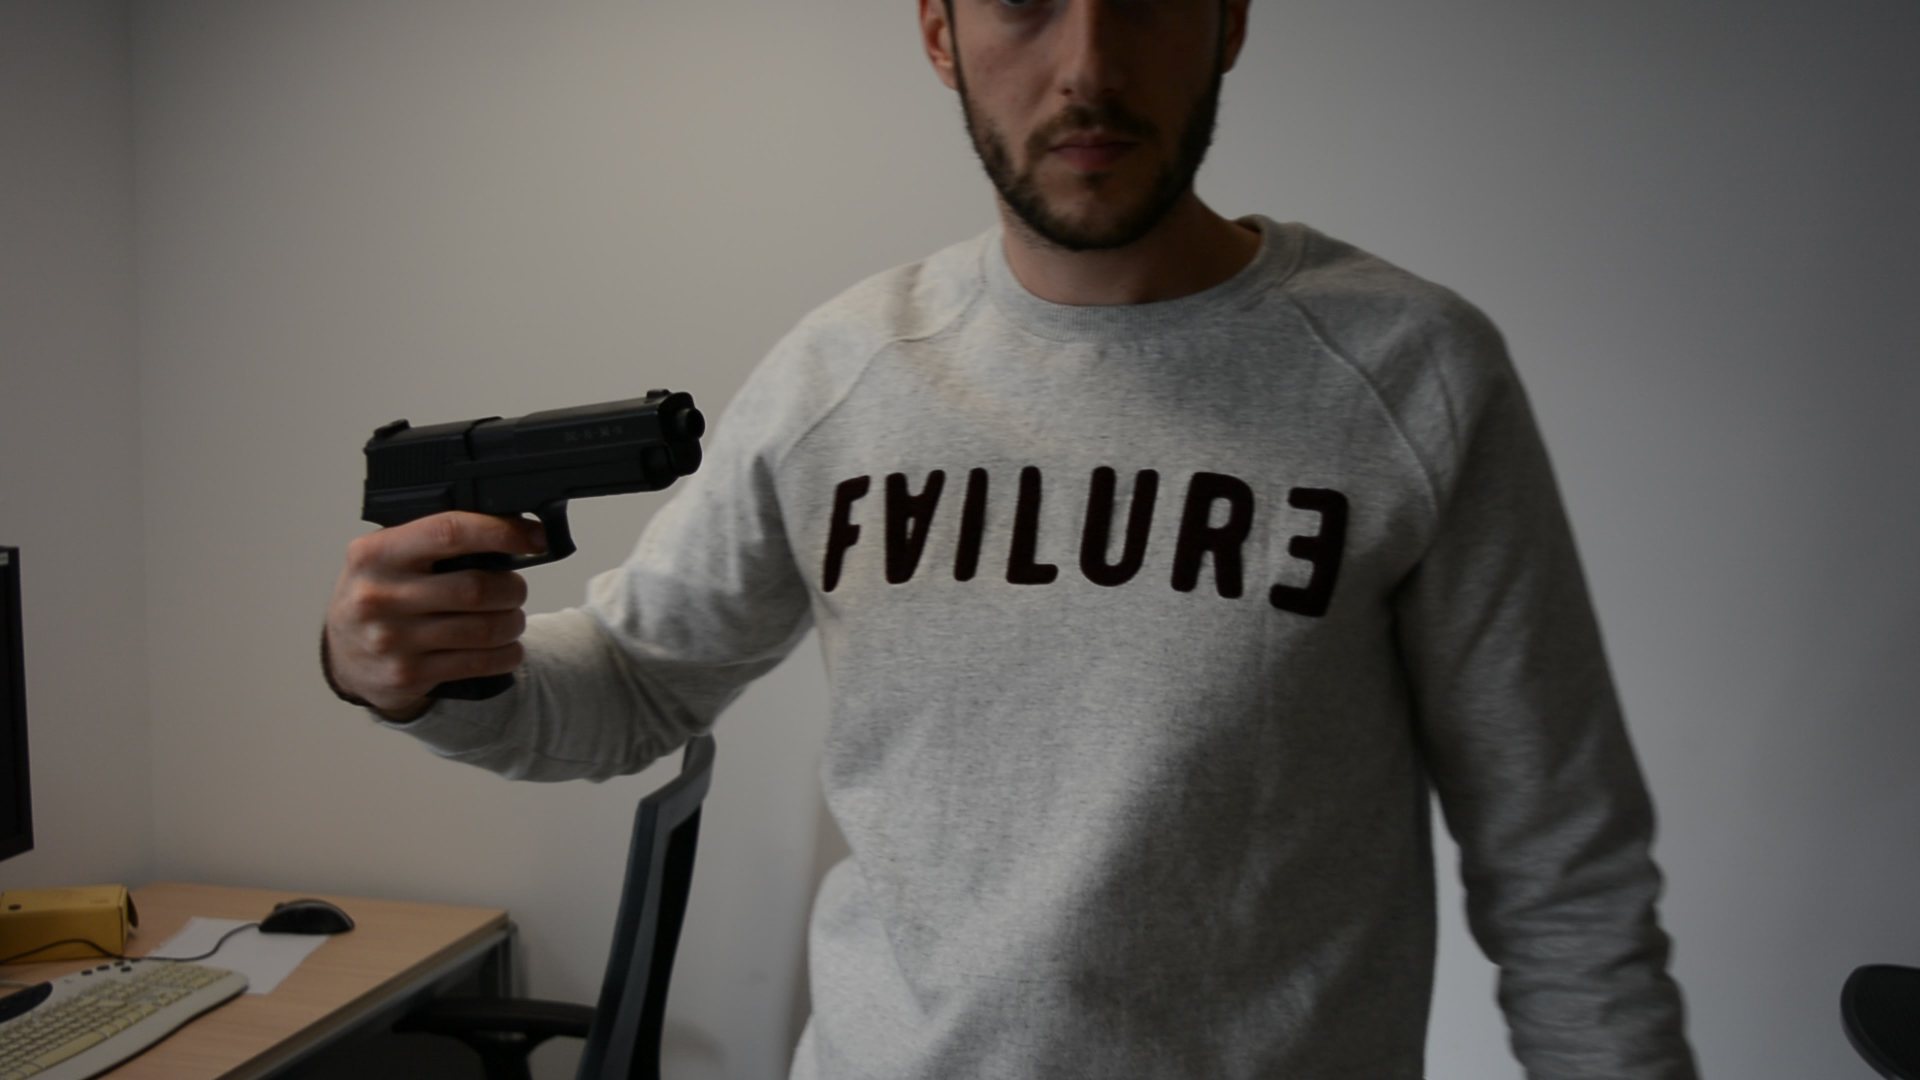pistol: (355, 382, 707, 705)
